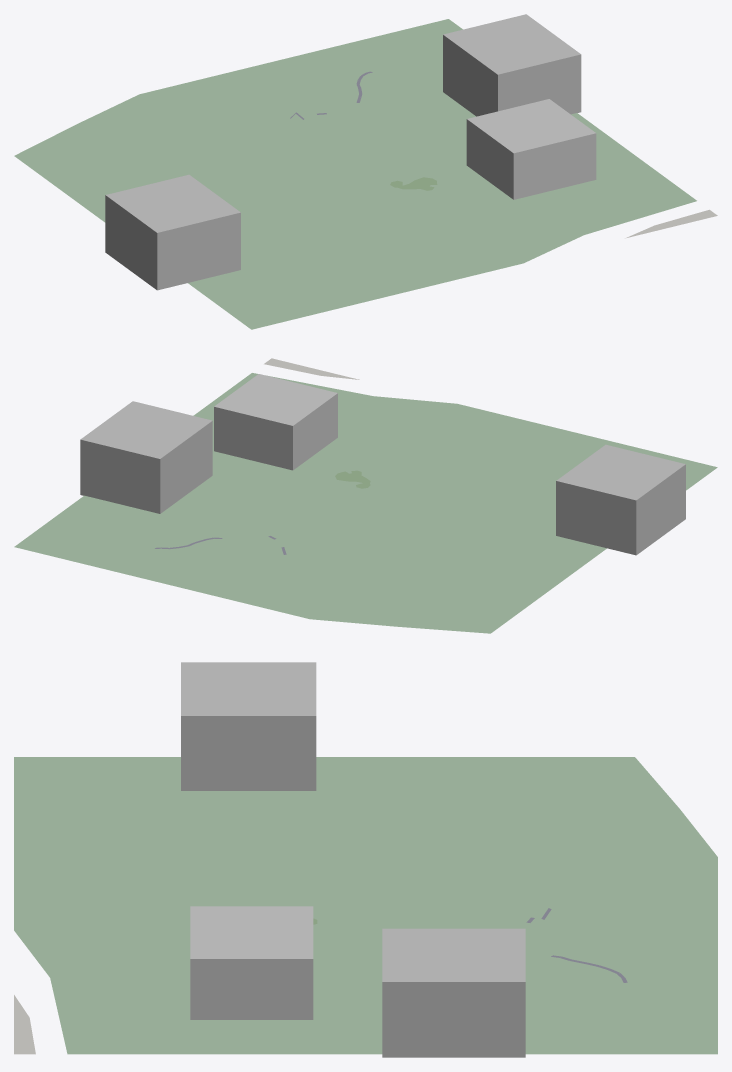
The model's file is 117_81_mid.glb.
The picture shows the model from 3 angles, top to bottom: view 1: azimuth 30°, elevation 25°; view 2: azimuth 150°, elevation 25°; view 3: azimuth 270°, elevation 25°; orthographic projection. The views are drawn at different scales.
Size of the model in its own units: 537 by 59.91 by 500.
